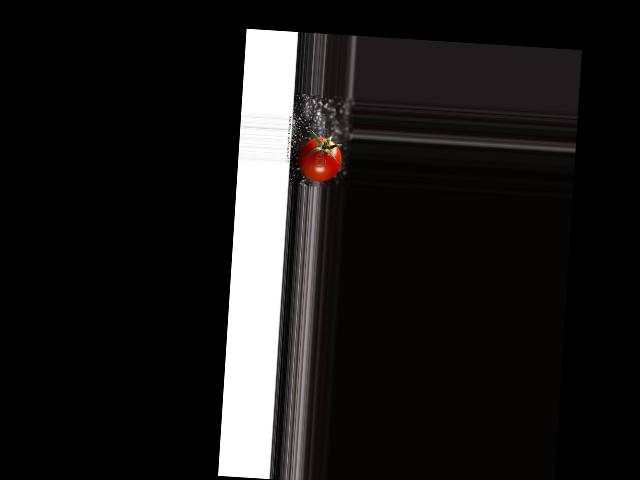tomato: (297, 135, 342, 182)
